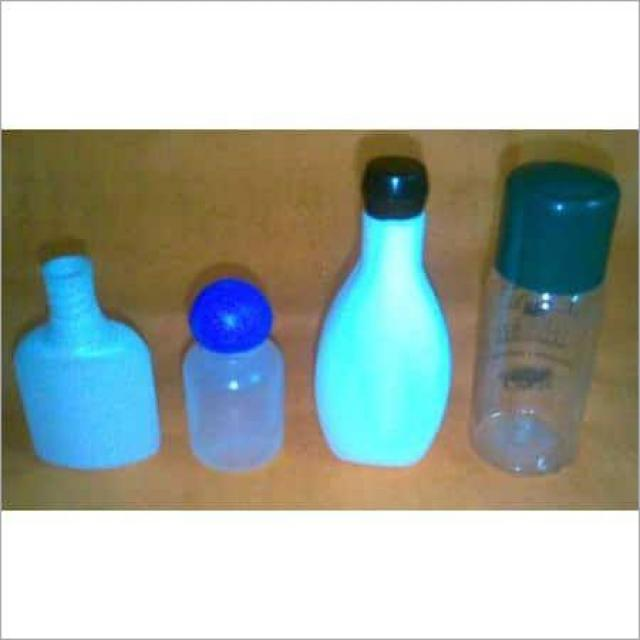plastic_bottle: (305, 152, 467, 482), (477, 151, 619, 480), (10, 236, 172, 477), (168, 276, 305, 481)
